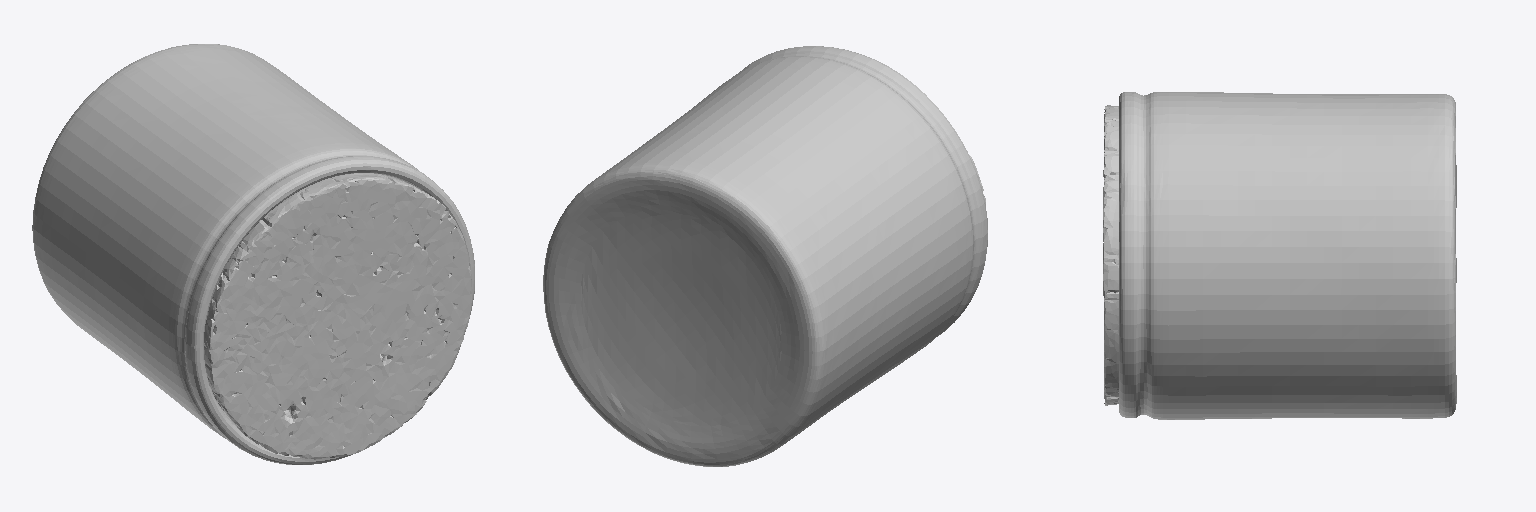
The model's file is marmalade_jar_with_lid.obj.
The picture shows the model from 3 angles: view 1: azimuth 30°, elevation 25°; view 2: azimuth 150°, elevation 25°; view 3: azimuth 270°, elevation 25°; orthographic projection.
Visible parts, largest first — view 1: marmalade_jar_03.002; view 2: marmalade_jar_03.002; view 3: marmalade_jar_03.002.
Part boxes in pixels (x1,y1,x2,y2): marmalade_jar_03.002: (32, 44, 474, 464); marmalade_jar_03.002: (543, 46, 987, 466); marmalade_jar_03.002: (1103, 92, 1456, 419).
Bounding box in the file's own units: 0.1271 × 0.1272 × 0.1361.